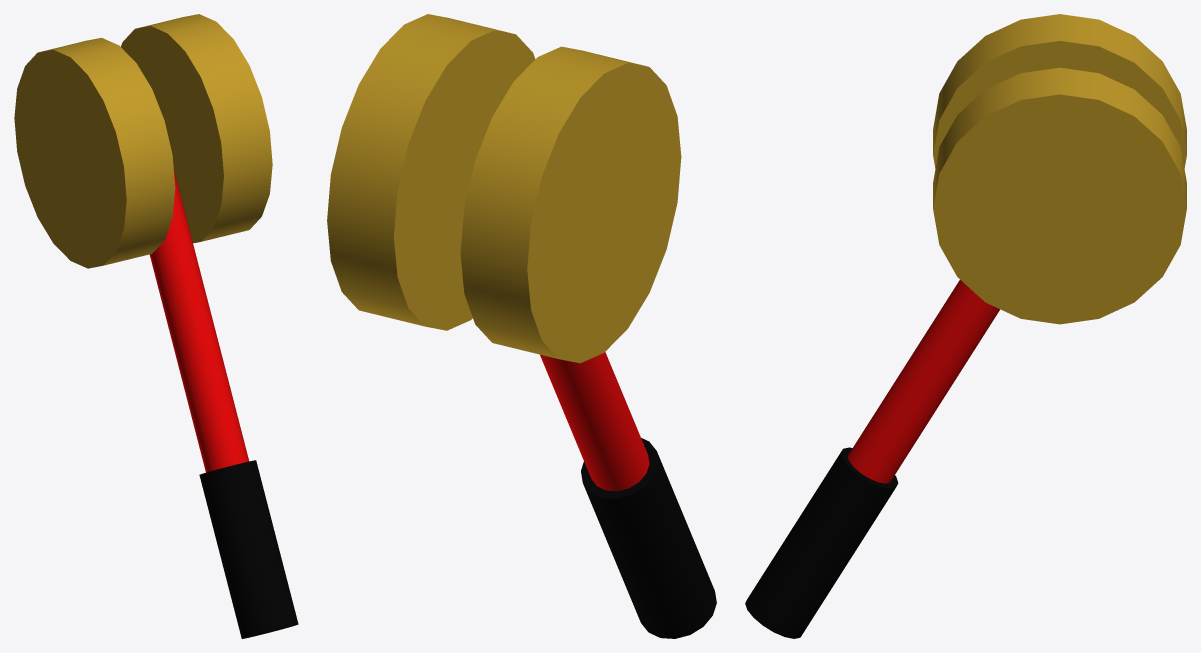
File: PullSwitch.fbx
The picture shows the model from 3 angles, left to right: view 1: azimuth 30°, elevation 25°; view 2: azimuth 150°, elevation 25°; view 3: azimuth 270°, elevation 25°; orthographic projection. The views are drawn at different scales.
Parts seen in each view (by area): view 1: pCylinder4, pCylinder1, pCylinder2, pCylinder3; view 2: pCylinder4, pCylinder1, pCylinder3, pCylinder2; view 3: pCylinder1, pCylinder4, pCylinder3, pCylinder2.
Part boxes in pixels (box(x1,y1,x2,y2)): pCylinder4: box(14, 37, 175, 268); pCylinder1: box(121, 14, 272, 243); pCylinder2: box(149, 169, 248, 472); pCylinder3: box(199, 460, 298, 638); pCylinder4: box(460, 46, 681, 363); pCylinder1: box(327, 14, 535, 330); pCylinder3: box(581, 438, 716, 638); pCylinder2: box(540, 352, 649, 491); pCylinder1: box(933, 67, 1186, 324); pCylinder4: box(933, 14, 1186, 168); pCylinder3: box(745, 447, 898, 638); pCylinder2: box(847, 280, 999, 483).
Bounding box in the file's own units: 1.5 × 5.04 × 3.48.
